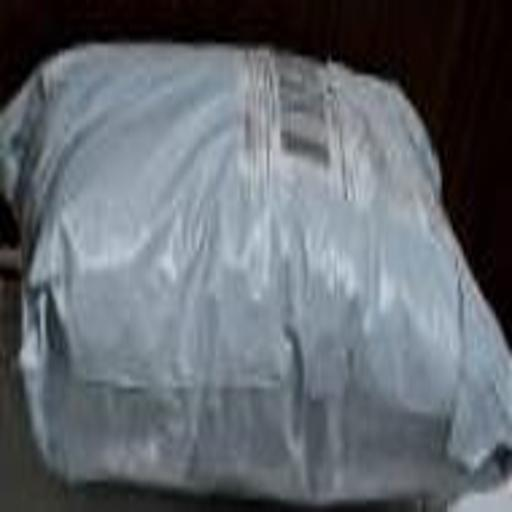Other: (25, 50, 512, 512)
